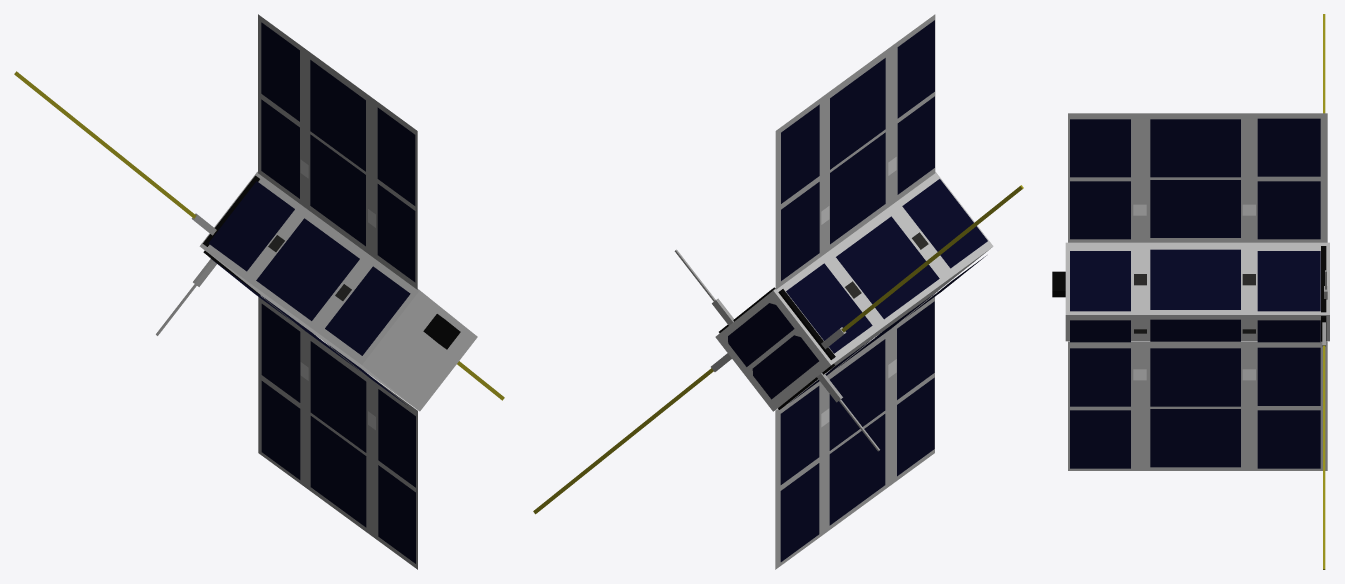
File: lemur1_med.gltf
3 views of the same model, side by side, from view 1: azimuth 30°, elevation 25°; view 2: azimuth 150°, elevation 25°; view 3: azimuth 270°, elevation 25° (orthographic). The views are drawn at different scales.
Visible parts, largest first — view 1: Cube, Plane.064, Plane.069, ReducedSolarCell.035, ReducedSolarCell.022, ReducedSolarCell.023, ReducedSolarCell.028, ReducedSolarCell.029, ReducedSolarCell.033, ReducedSolarCell.034, ReducedSolarCell.018, ReducedSolarCell.019 (+8 smaller); view 2: Cube, Plane.064, Plane.069, ReducedSolarCell.035, ReducedSolarCell.022, ReducedSolarCell.028, ReducedSolarCell.029, ReducedSolarCell.023, ReducedSolarCell.033, ReducedSolarCell.034, ReducedSolarCell.019, ReducedSolarCell.018 (+10 smaller); view 3: Plane.142, Plane.141, Cube, ReducedSolarCell.014, ReducedSolarCell.004, ReducedSolarCell.010, ReducedSolarCell.011, ReducedSolarCell.005, ReducedSolarCell.012, ReducedSolarCell.007, ReducedSolarCell, ReducedSolarCell.001 (+11 smaller).
Boxes of the visible parts, x1,y1,x2,y2 form: Cube: (199, 171, 477, 411); Plane.064: (258, 14, 417, 289); Plane.069: (258, 295, 417, 569); ReducedSolarCell.035: (256, 218, 359, 320); ReducedSolarCell.022: (310, 416, 366, 527); ReducedSolarCell.023: (310, 341, 366, 452); ReducedSolarCell.028: (310, 134, 365, 246); ReducedSolarCell.029: (310, 60, 365, 171); ReducedSolarCell.033: (208, 181, 294, 271); ReducedSolarCell.034: (325, 266, 410, 355); ReducedSolarCell.018: (261, 381, 300, 479); ReducedSolarCell.019: (261, 304, 300, 402); Cube: (715, 172, 993, 411); Plane.064: (775, 14, 935, 289); Plane.069: (775, 294, 934, 569); ReducedSolarCell.035: (836, 216, 939, 319); ReducedSolarCell.022: (829, 414, 885, 525); ReducedSolarCell.028: (830, 132, 885, 244); ReducedSolarCell.029: (830, 58, 885, 169); ReducedSolarCell.023: (829, 339, 885, 450); ReducedSolarCell.033: (786, 263, 872, 353); ReducedSolarCell.034: (902, 179, 987, 268); ReducedSolarCell.019: (780, 386, 819, 484); ReducedSolarCell.018: (780, 463, 819, 561); Plane.142: (1068, 113, 1327, 242); Plane.141: (1068, 341, 1327, 470); Cube: (1065, 242, 1329, 341); ReducedSolarCell.014: (1150, 249, 1240, 309); ReducedSolarCell.004: (1150, 119, 1240, 177); ReducedSolarCell.010: (1150, 348, 1240, 406); ReducedSolarCell.011: (1150, 409, 1240, 467); ReducedSolarCell.005: (1150, 180, 1240, 237); ReducedSolarCell.012: (1257, 251, 1320, 311); ReducedSolarCell.007: (1257, 410, 1320, 468); ReducedSolarCell: (1257, 118, 1320, 176); ReducedSolarCell.001: (1257, 181, 1320, 239).
Bounding box in the file's own units: 11.94 × 10.41 × 7.22.
